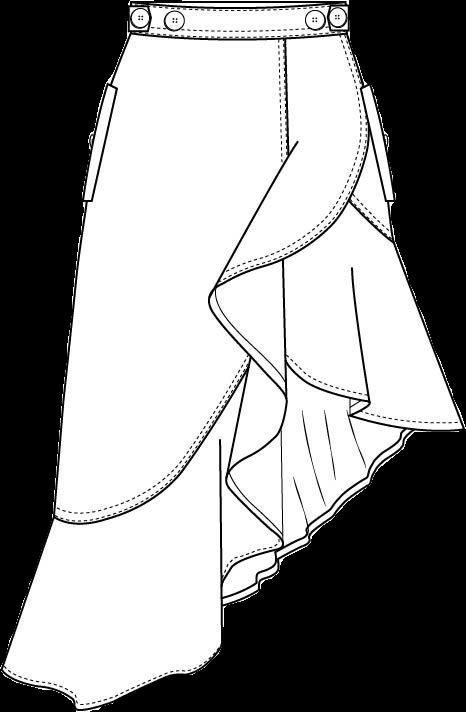Hemline: (0, 124, 375, 711), (261, 356, 464, 435)
Waistline: (124, 0, 349, 45)
